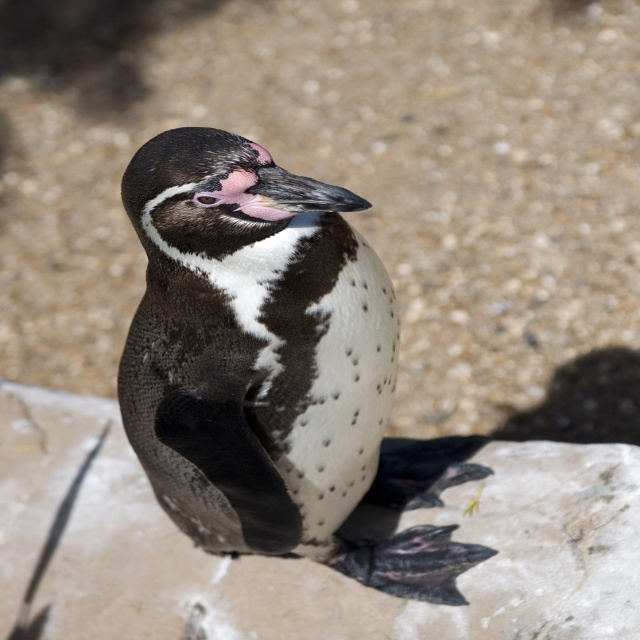Penguin: (115, 127, 500, 604)
